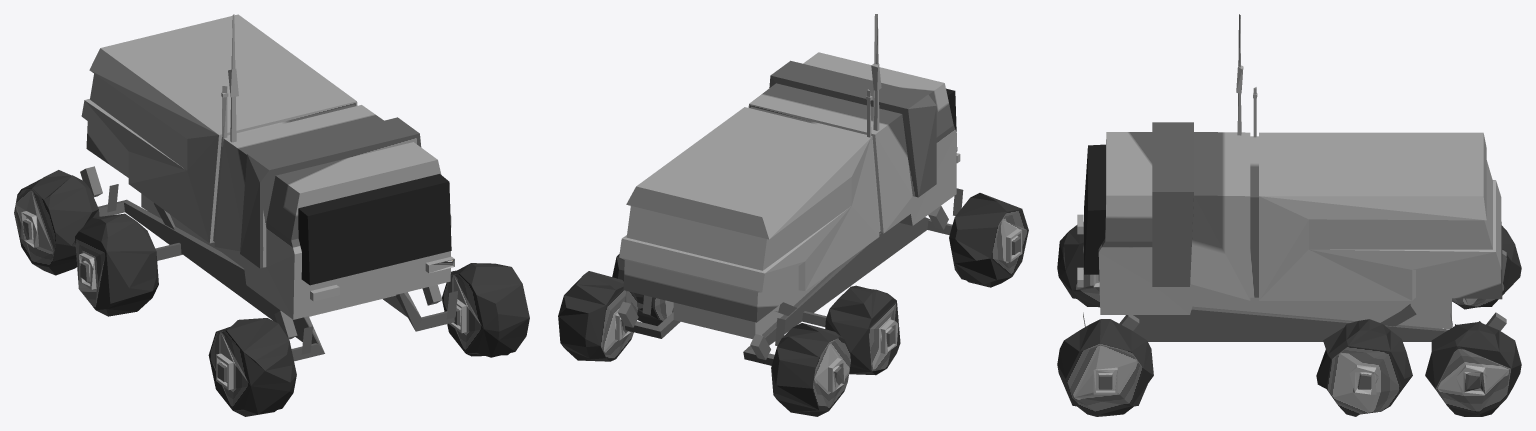
Rendered from rover_lod.glb.
3 views of the same model, side by side, from view 1: azimuth 30°, elevation 25°; view 2: azimuth 150°, elevation 25°; view 3: azimuth 270°, elevation 25° (orthographic). The views are drawn at different scales.
Visible parts, largest first — view 1: Rover_2, Wheel_6, Wheel_2.002, Wheel_3.002, Wheel_2.001; view 2: Rover_2, Wheel_2.001, Wheel_2.002, Wheel_3.001, Wheel_6, Wheel_1.001; view 3: Rover_2, Wheel_3.002, Wheel_3.001, Wheel_1.001, Wheel_2.002, Wheel_2.001.
Boxes of the visible parts, left/top/right/bottom form: Rover_2: left=80, top=14, right=457, bottom=361; Wheel_6: left=75, top=213, right=158, bottom=316; Wheel_2.002: left=208, top=318, right=296, bottom=416; Wheel_3.002: left=442, top=263, right=529, bottom=357; Wheel_2.001: left=14, top=170, right=99, bottom=275; Rover_2: left=617, top=14, right=963, bottom=365; Wheel_2.001: left=771, top=323, right=850, bottom=416; Wheel_2.002: left=949, top=193, right=1028, bottom=287; Wheel_3.001: left=558, top=271, right=637, bottom=361; Wheel_6: left=825, top=285, right=900, bottom=375; Wheel_1.001: left=612, top=254, right=673, bottom=325; Rover_2: left=1077, top=14, right=1506, bottom=341; Wheel_3.002: left=1057, top=319, right=1153, bottom=416; Wheel_3.001: left=1425, top=321, right=1521, bottom=416; Wheel_1.001: left=1316, top=319, right=1412, bottom=416; Wheel_2.002: left=1057, top=222, right=1099, bottom=307; Wheel_2.001: left=1452, top=226, right=1521, bottom=309.
Size of the model in its own units: 4.58 by 4.88 by 6.56.
Materials: 1 (1 with a texture image).
